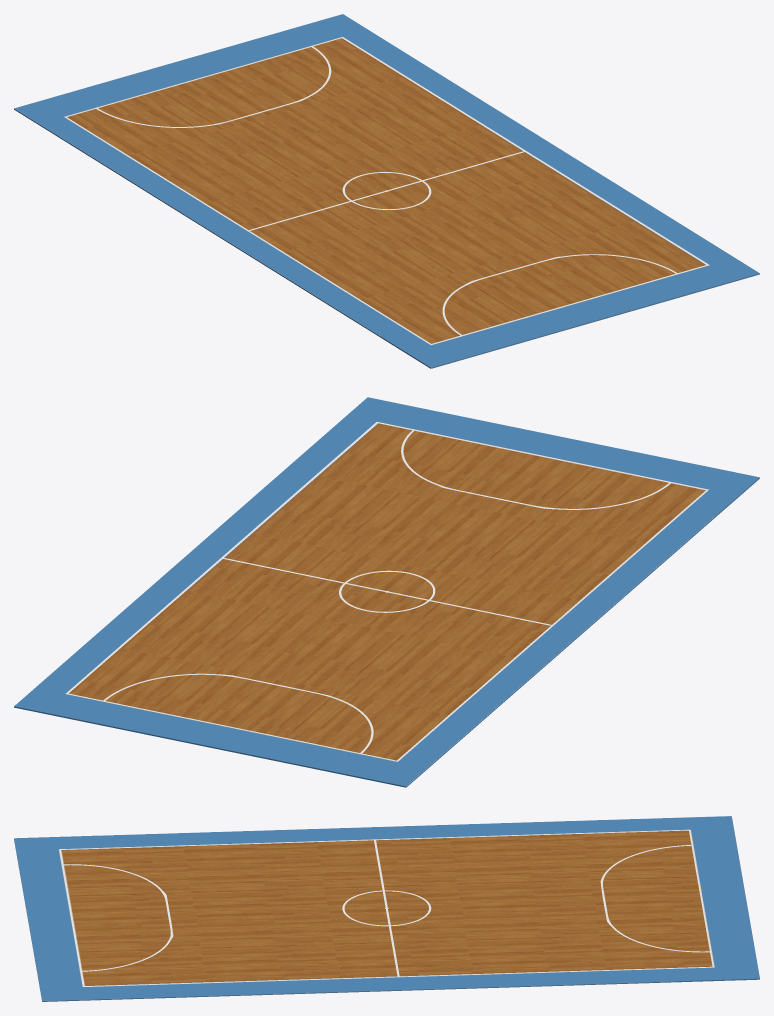
File: pitch.fbx
3 renders of one model, top to bottom at view 1: azimuth 30°, elevation 25°; view 2: azimuth 150°, elevation 25°; view 3: azimuth 270°, elevation 25°, orthographic. The views are drawn at different scales.
Parts seen in each view (by area): view 1: stadium.006; view 2: stadium.006; view 3: stadium.006.
Part boxes in pixels (<box>): stadium.006: <box>14,14,759,368</box>; stadium.006: <box>14,397,759,787</box>; stadium.006: <box>14,816,759,1001</box>.
Bounding box in the file's own units: 296 × 0.8158 × 504.
1 material, 1 textured.
